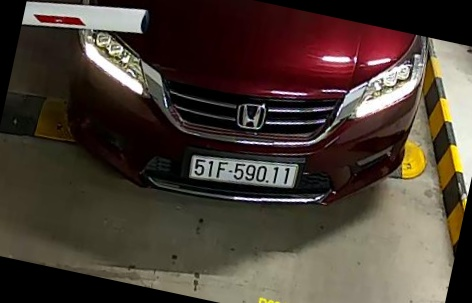plate: (187, 149, 300, 195)
